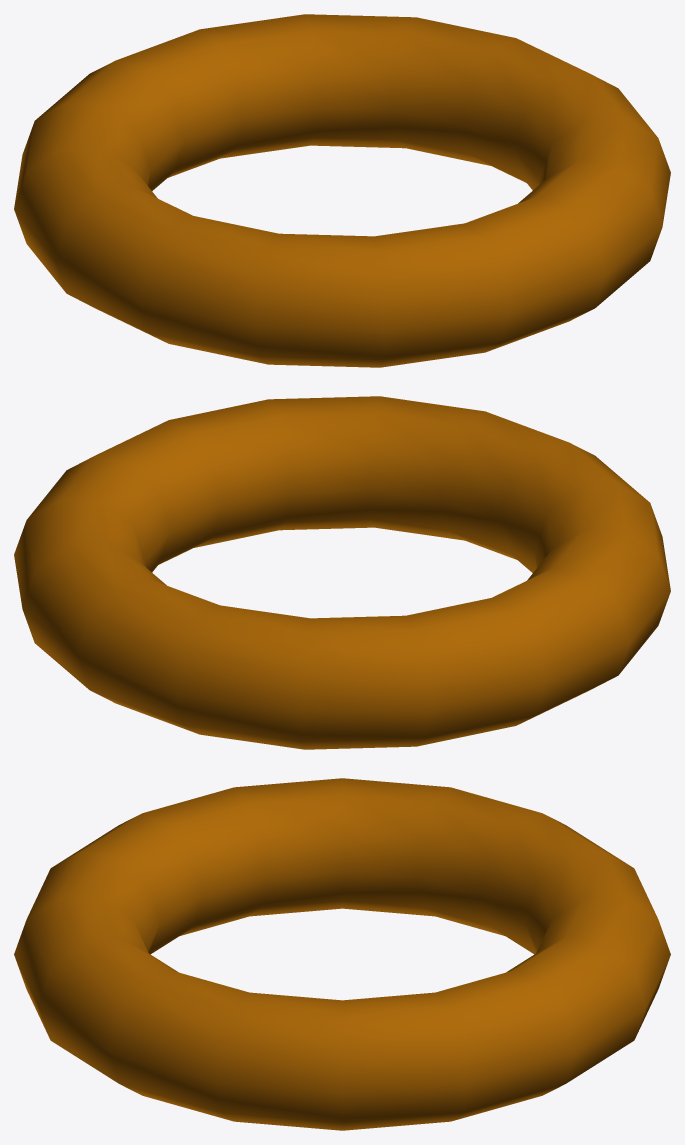
The model's file is Mod_ring_LODs.fbx.
3 renders of one model, top to bottom at view 1: azimuth 30°, elevation 25°; view 2: azimuth 150°, elevation 25°; view 3: azimuth 270°, elevation 25°, orthographic.
Visible parts, largest first — view 1: ring_LOD0; view 2: ring_LOD0; view 3: ring_LOD0.
Boxes of the visible parts, box(x1,y1,x2,y2) form: ring_LOD0: box(14, 14, 670, 367); ring_LOD0: box(14, 396, 670, 749); ring_LOD0: box(14, 778, 670, 1130).
Bounding box in the file's own units: 12.26 × 2.33 × 12.26.
